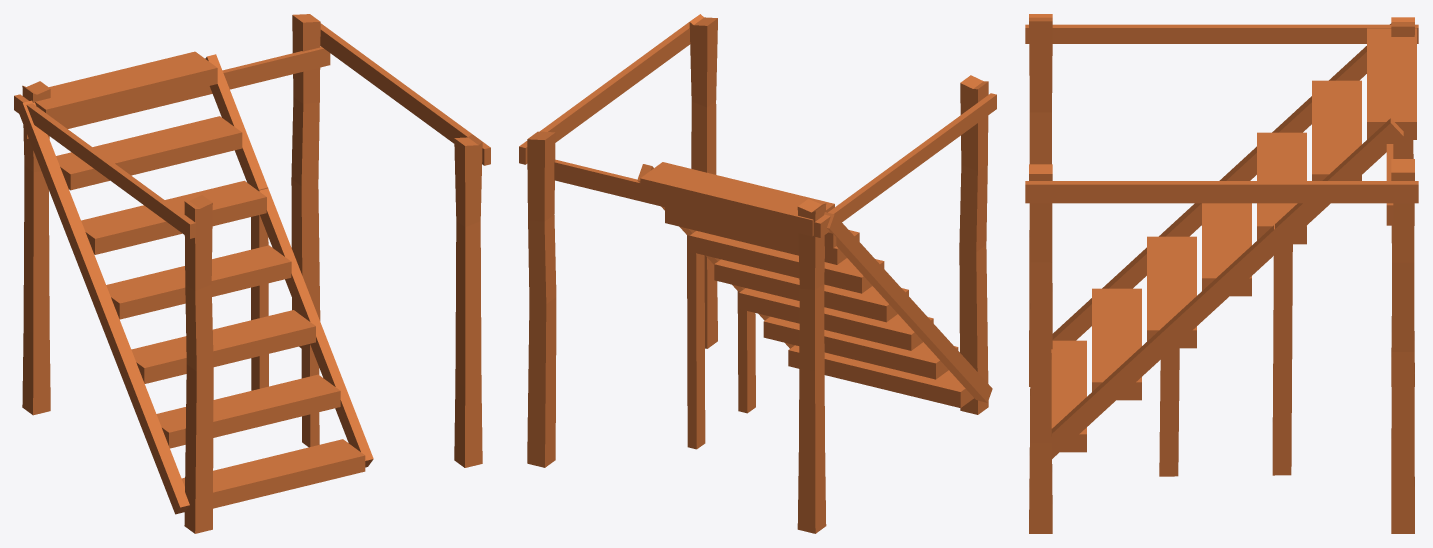
The model's file is WoodStairs2.fbx.
3 views of the same model, side by side, from view 1: azimuth 30°, elevation 25°; view 2: azimuth 150°, elevation 25°; view 3: azimuth 270°, elevation 25° (orthographic). The views are drawn at different scales.
Parts seen in each view (by area): view 1: WoodStairs2; view 2: WoodStairs2; view 3: WoodStairs2.
Part boxes in pixels (bbox=[...]): WoodStairs2: bbox=[14, 14, 490, 533]; WoodStairs2: bbox=[519, 14, 996, 533]; WoodStairs2: bbox=[1025, 14, 1418, 533].
Bounding box in the file's own units: 200 × 205 × 200.
